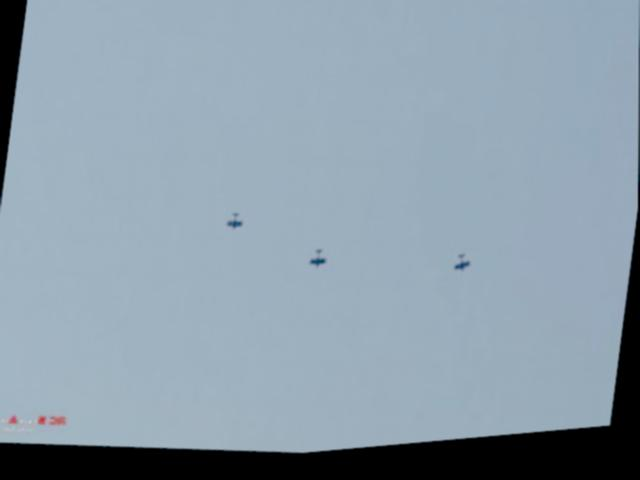uav: (307, 252, 330, 277), (453, 259, 474, 283), (225, 215, 245, 237)
